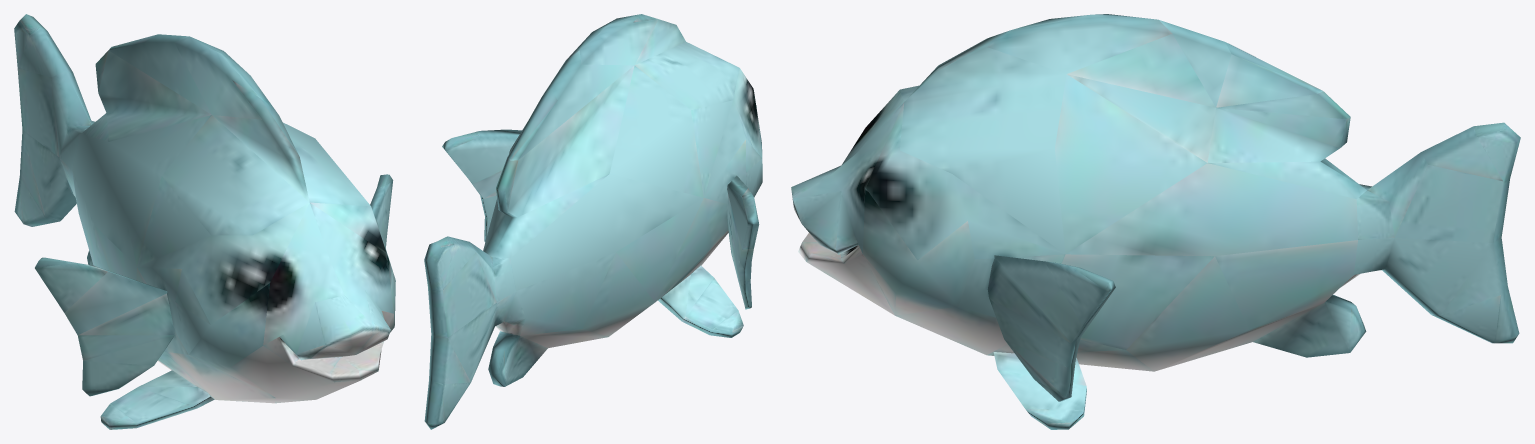
The model's file is fish.glb.
The picture shows the model from 3 angles, left to right: view 1: azimuth 30°, elevation 25°; view 2: azimuth 150°, elevation 25°; view 3: azimuth 270°, elevation 25°; orthographic projection. The views are drawn at different scales.
Parts seen in each view (by area): view 1: fish; view 2: fish; view 3: fish.
Boxes of the visible parts, bbox=[...] form: fish: bbox=[14, 14, 395, 429]; fish: bbox=[424, 14, 762, 429]; fish: bbox=[791, 14, 1520, 429].
Bounding box in the file's own units: 0.5396 × 0.4735 × 0.9.
Materials: 1 (1 with a texture image).
